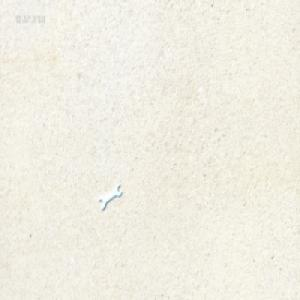Wrench: (99, 181, 122, 209)
